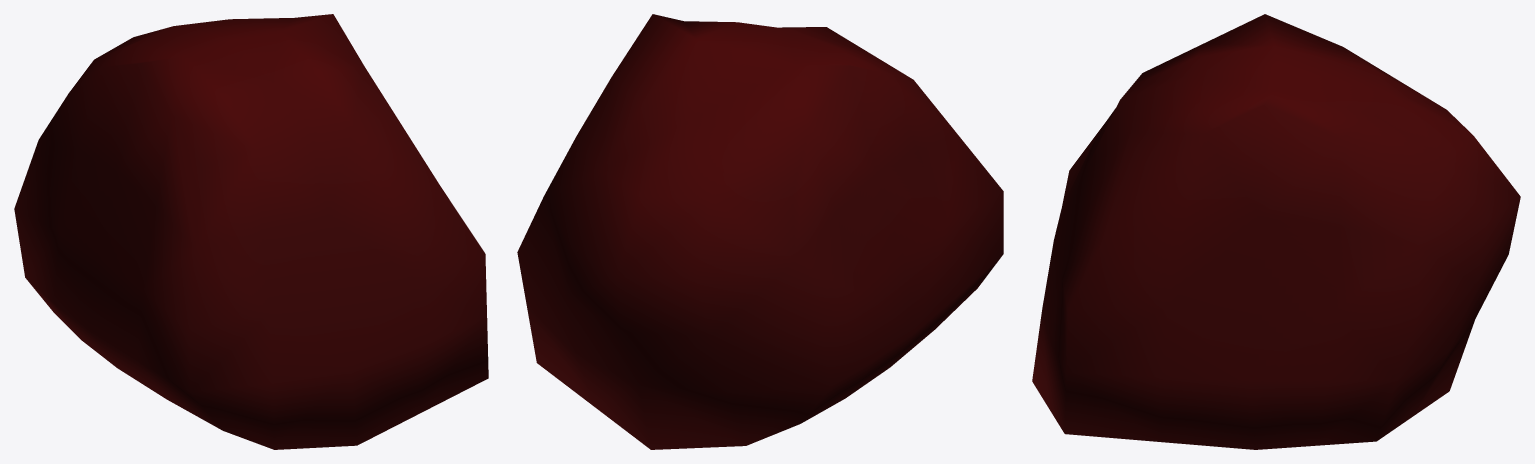
File: geology-pebbles-dirtchunk_v2.fbx
3 views of the same model, side by side, from view 1: azimuth 30°, elevation 25°; view 2: azimuth 150°, elevation 25°; view 3: azimuth 270°, elevation 25° (orthographic). The views are drawn at different scales.
Parts seen in each view (by area): view 1: DirtChunk_v2; view 2: DirtChunk_v2; view 3: DirtChunk_v2.
Boxes of the visible parts, bbox=[...] form: DirtChunk_v2: bbox=[14, 14, 488, 449]; DirtChunk_v2: bbox=[517, 14, 1003, 449]; DirtChunk_v2: bbox=[1032, 14, 1520, 449].
Bounding box in the file's own units: 5.7 × 5.49 × 7.35.
